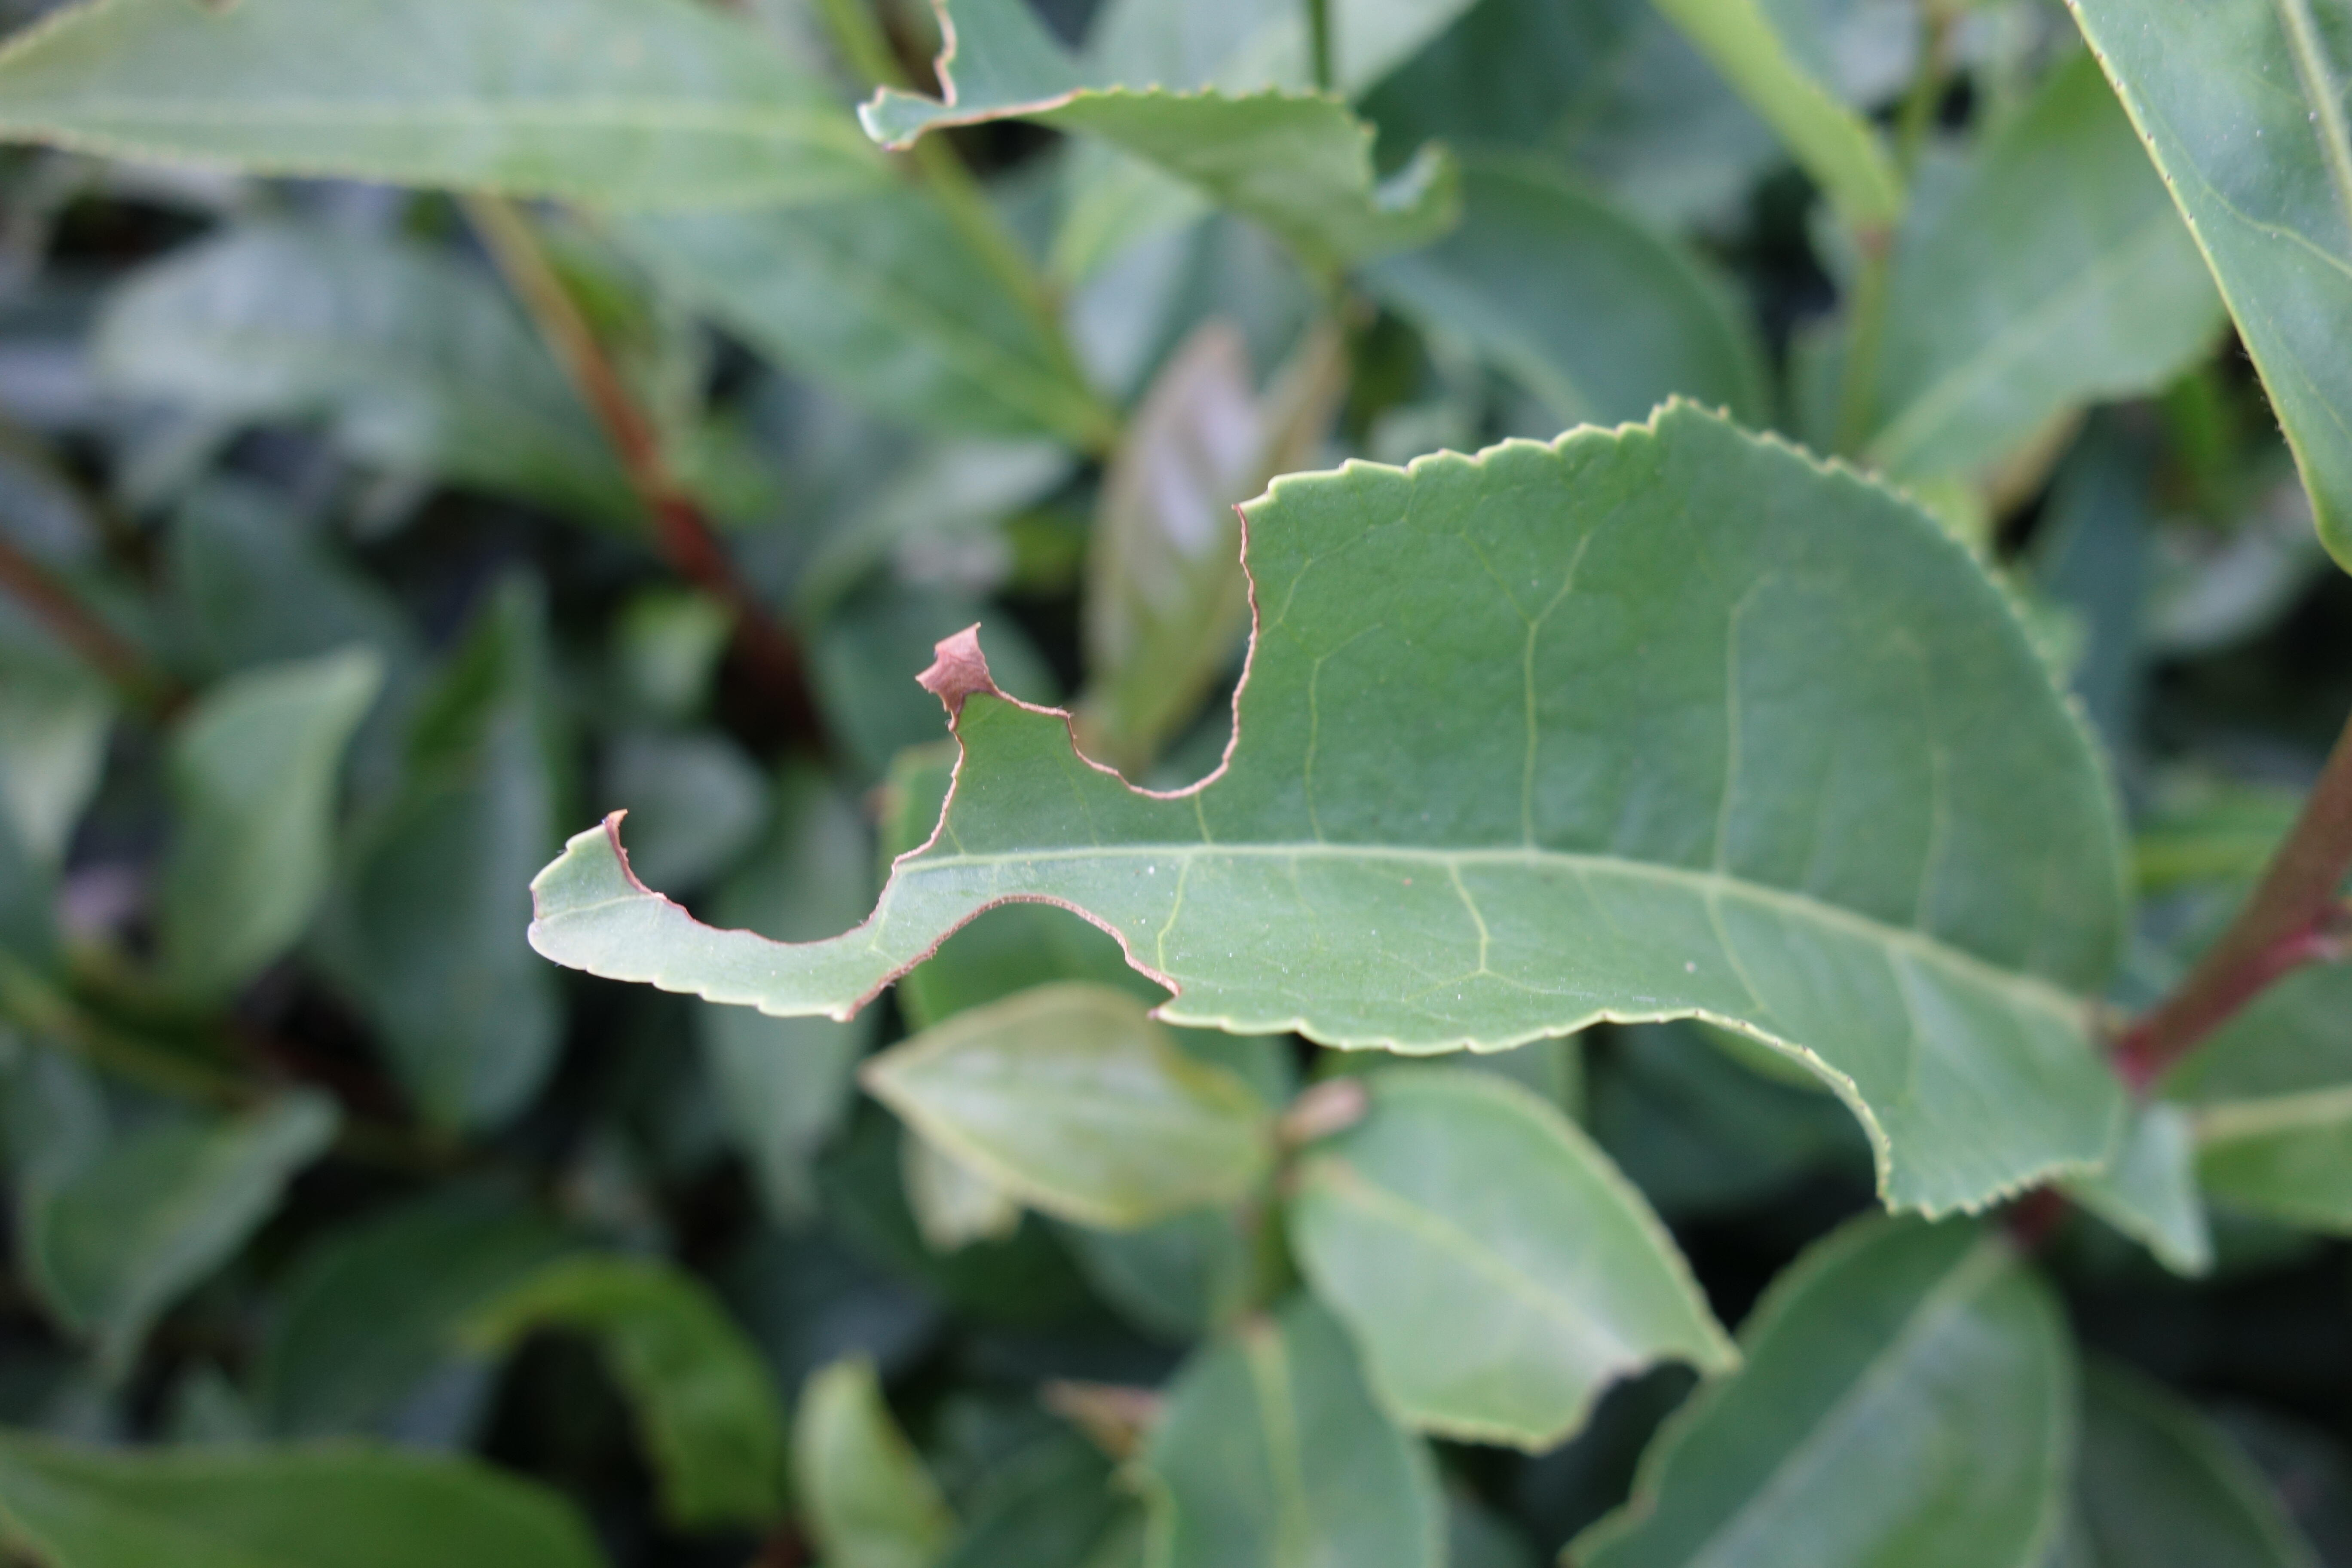chihuo_high: (532, 394, 2140, 1223), (845, 7, 1466, 280)
chihuo_low: (1286, 1071, 1738, 1465)
